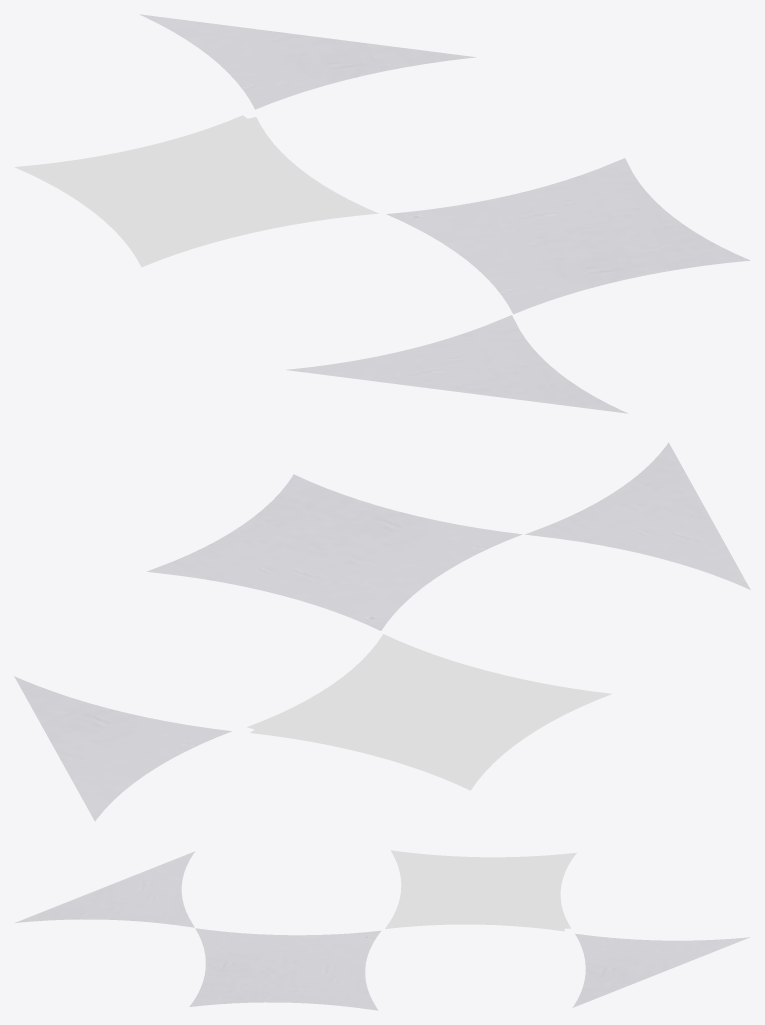
File: SHADE.fbx
3 renders of one model, top to bottom at view 1: azimuth 30°, elevation 25°; view 2: azimuth 150°, elevation 25°; view 3: azimuth 270°, elevation 25°, orthographic. The views are drawn at different scales.
Parts seen in each view (by area): view 1: Canvas, Unity; view 2: Canvas, Unity; view 3: Canvas, Unity.
Boxes of the visible parts, x1,y1,x2,y2 form: Canvas: [139, 14, 750, 413]; Unity: [14, 115, 378, 267]; Canvas: [14, 442, 750, 821]; Unity: [247, 634, 611, 790]; Canvas: [14, 851, 749, 1010]; Unity: [385, 850, 576, 931].
Bounding box in the file's own units: 24.48 × 3.62e-05 × 47.52.
Materials: 2 (1 with a texture image).
